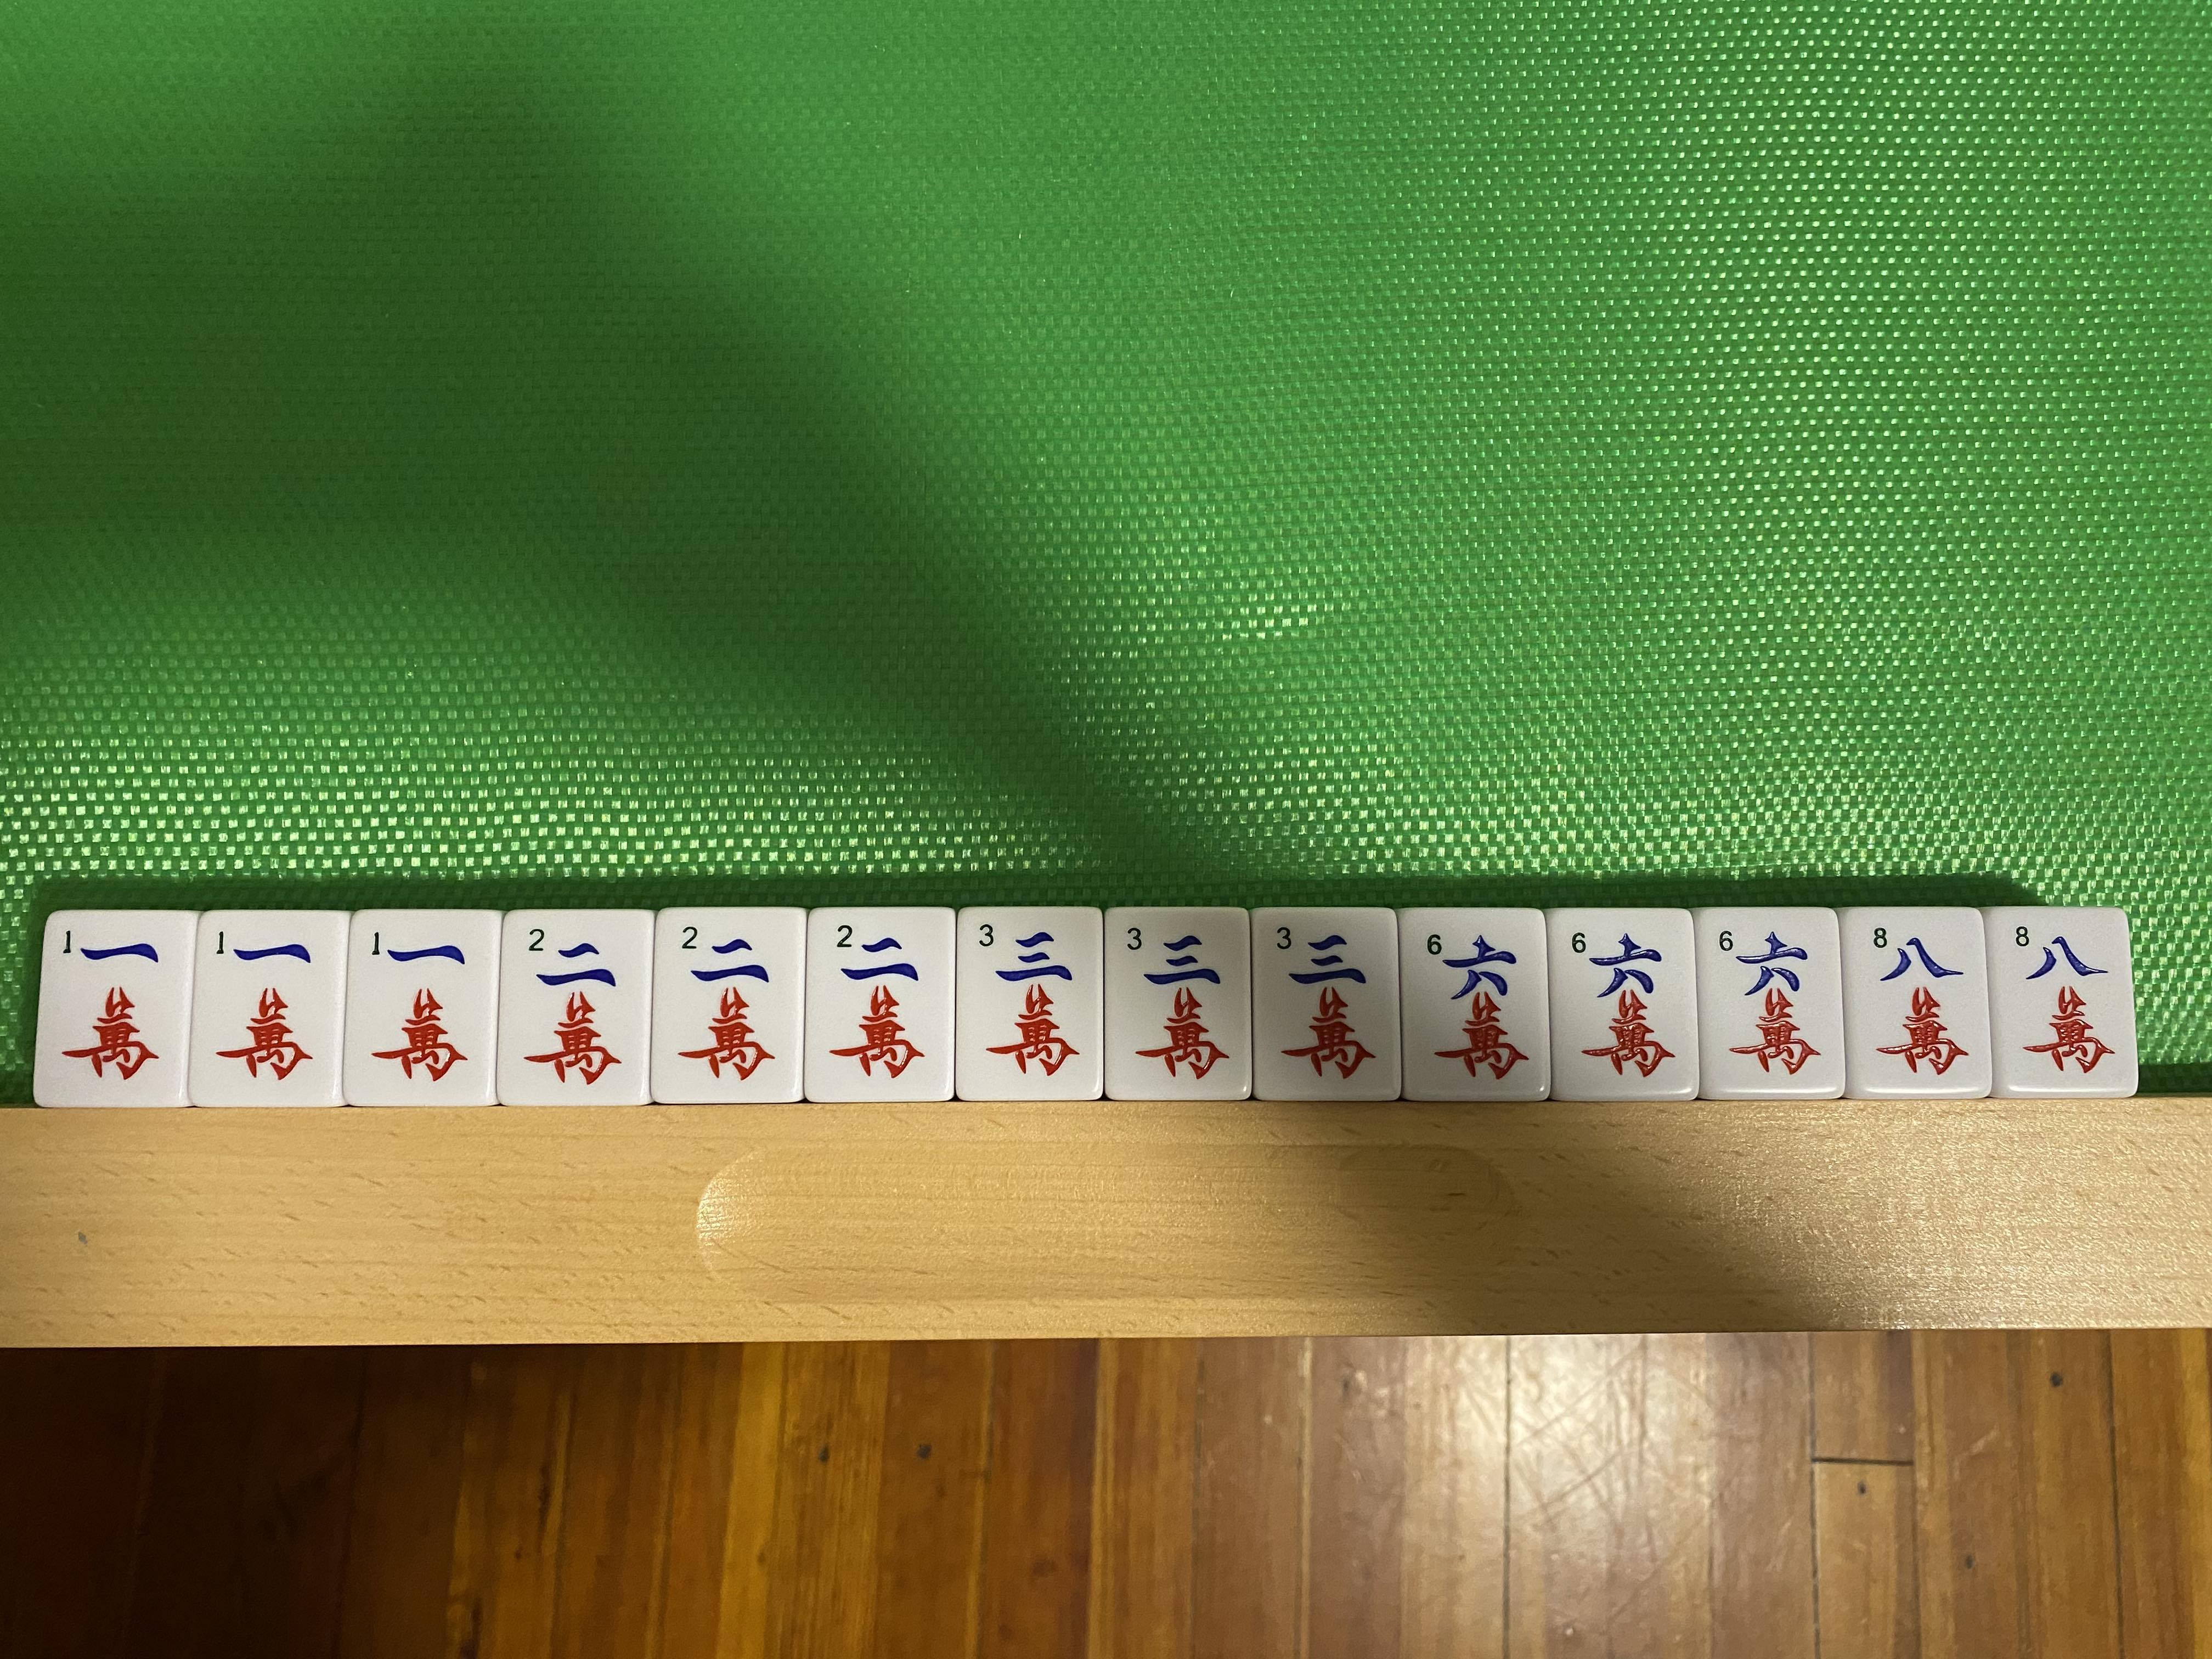character-eight: (1851, 911, 1984, 1094), (1996, 911, 2127, 1089)
character-one: (354, 915, 489, 1105), (47, 915, 179, 1105), (202, 917, 336, 1101)
character-six: (1404, 911, 1545, 1100), (1554, 913, 1691, 1098), (1705, 910, 1836, 1096)
character-three: (960, 908, 1103, 1100), (1252, 911, 1397, 1098), (1108, 910, 1249, 1098)
character-two: (502, 913, 650, 1103), (655, 911, 803, 1100), (808, 913, 949, 1100)
